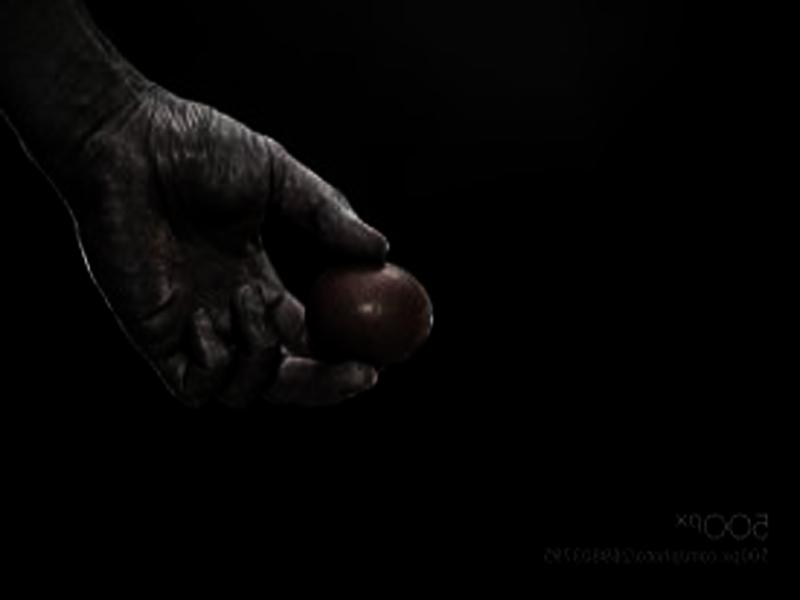Eggs: (302, 256, 432, 364)
